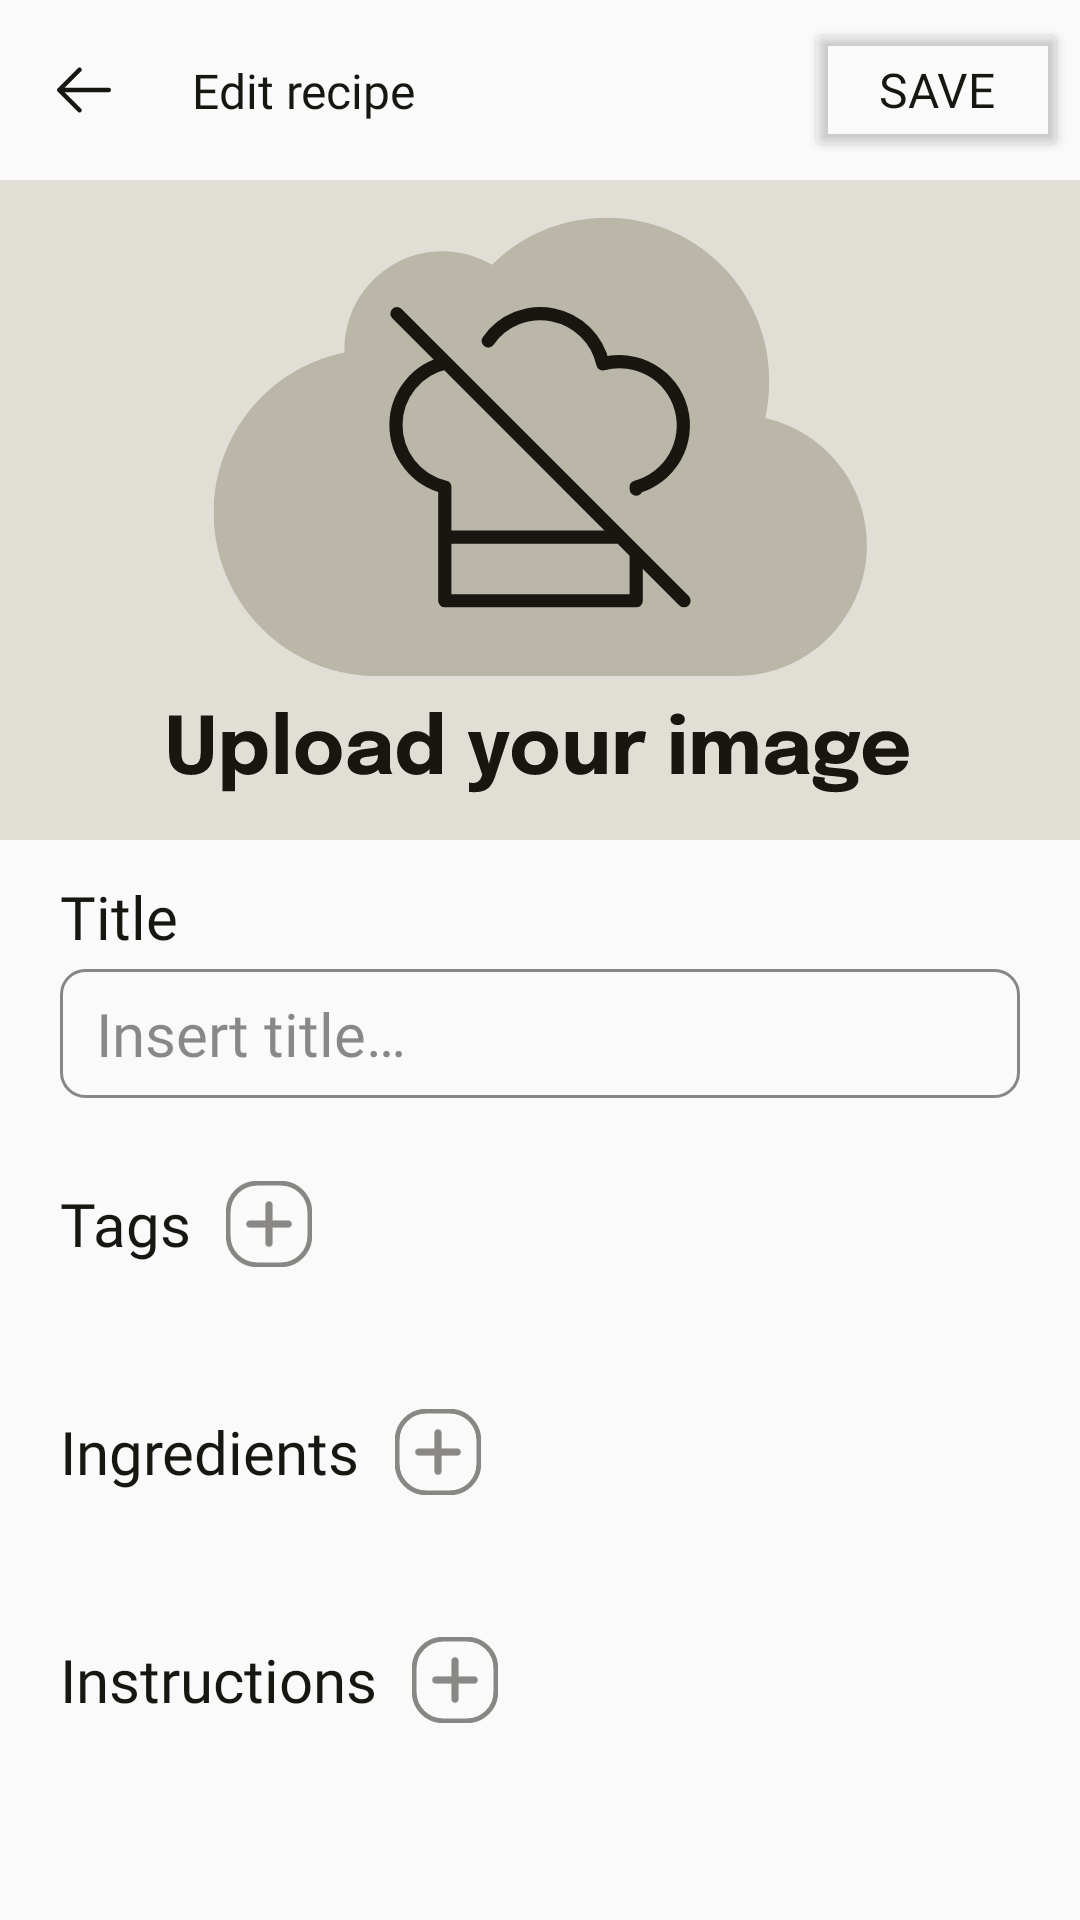

Screen size 1080x1920. Icon name, then its box in pixels as (x1, y1, x2, y2):
atras: (57, 67, 111, 113)
